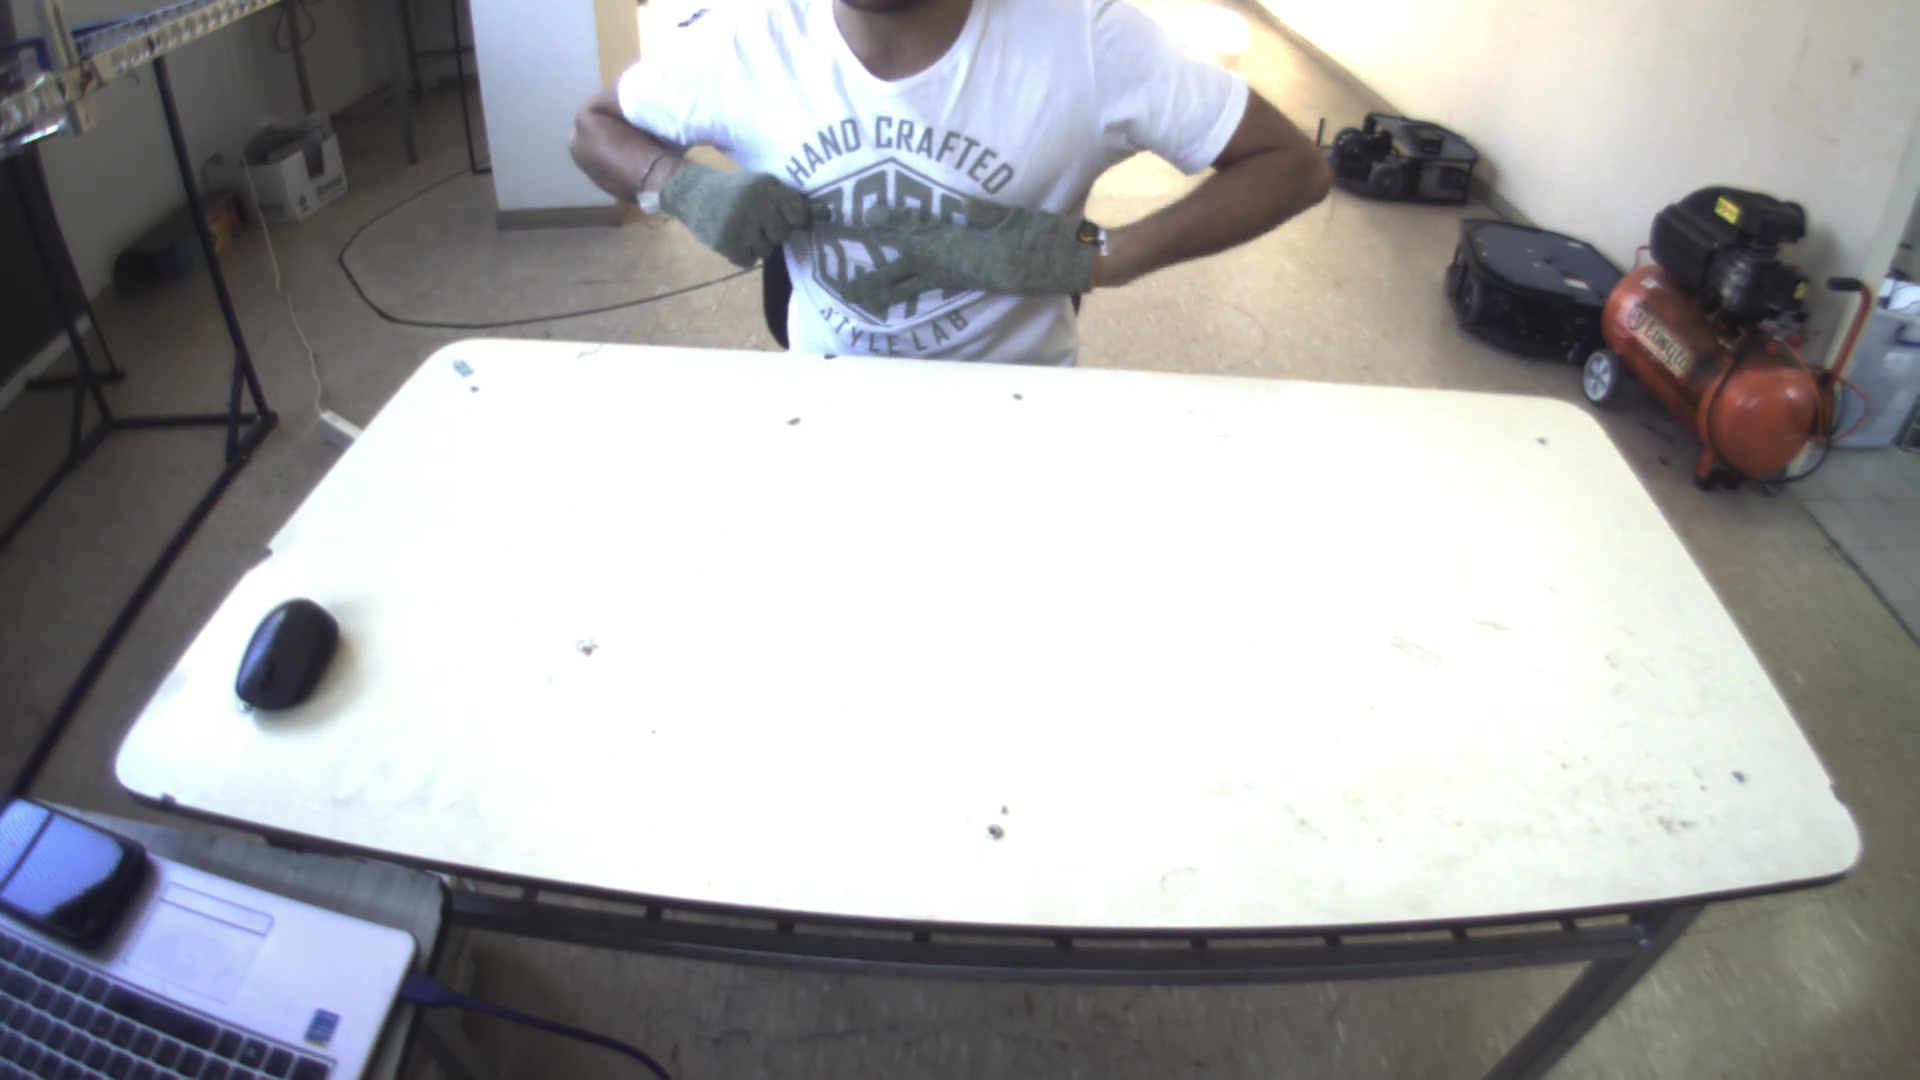hand: (847, 186, 1105, 301), (636, 145, 822, 262)
